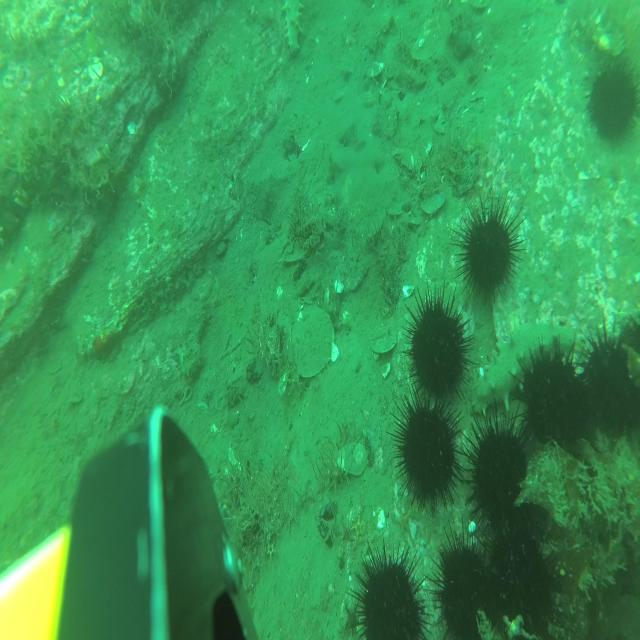echinus: (387, 382, 464, 521), (406, 276, 473, 413), (464, 406, 534, 534), (516, 339, 586, 467), (451, 190, 526, 307), (349, 542, 430, 640), (431, 521, 494, 640), (487, 536, 557, 640), (584, 317, 633, 445), (585, 56, 640, 150), (621, 319, 640, 436)
holothurian: (284, 0, 304, 56)
scallop: (293, 309, 333, 378), (336, 442, 368, 477), (372, 327, 396, 356)
